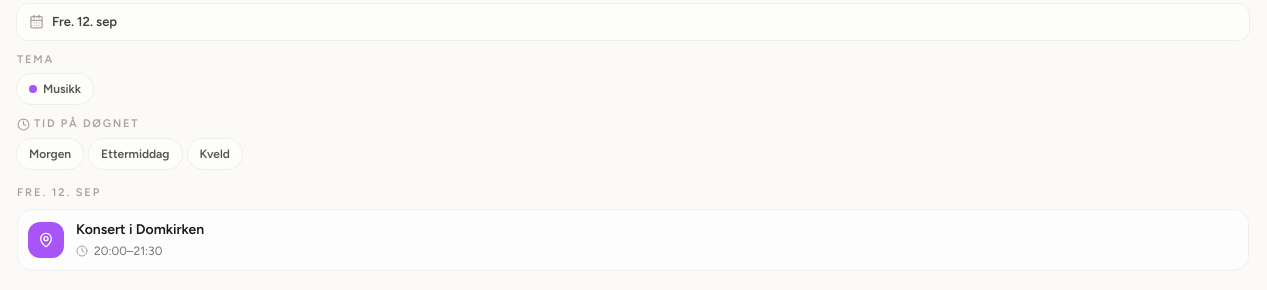
Test: EventDetailPanel (Unit 6, R15) › event-tags rendres når oppgitt
The width and height of the screenshot is (1267, 290).
Click the text "Konsert i Domkirken". click: [140, 230]
box: 76,221 -> 204,238
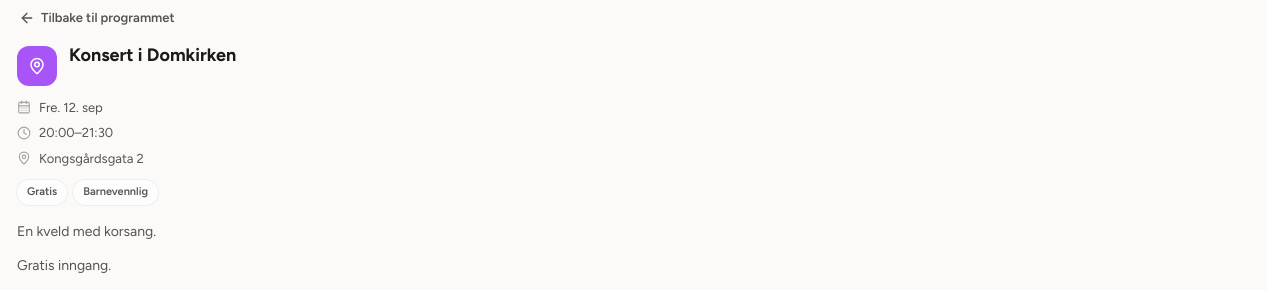
Check: the text "Gratis" is shown, box 17,180 -> 67,204
Check: the text "Barnevennlig" is shown, box 73,180 -> 158,204
